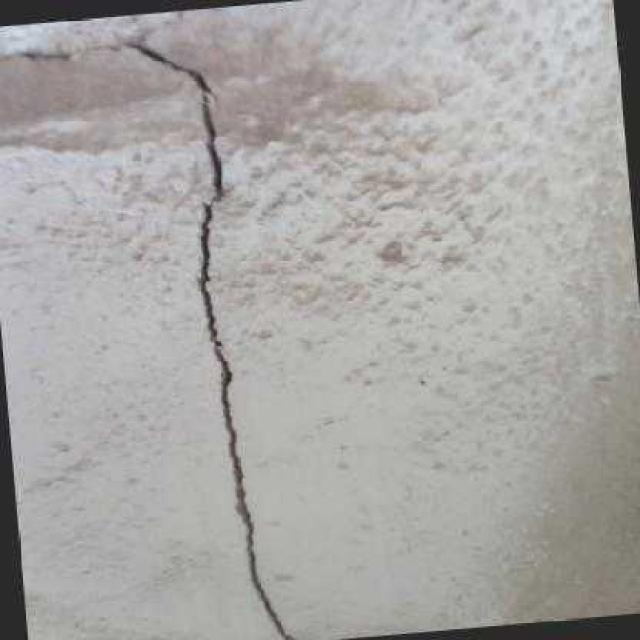D00: (121, 45, 294, 640), (0, 10, 189, 64)
